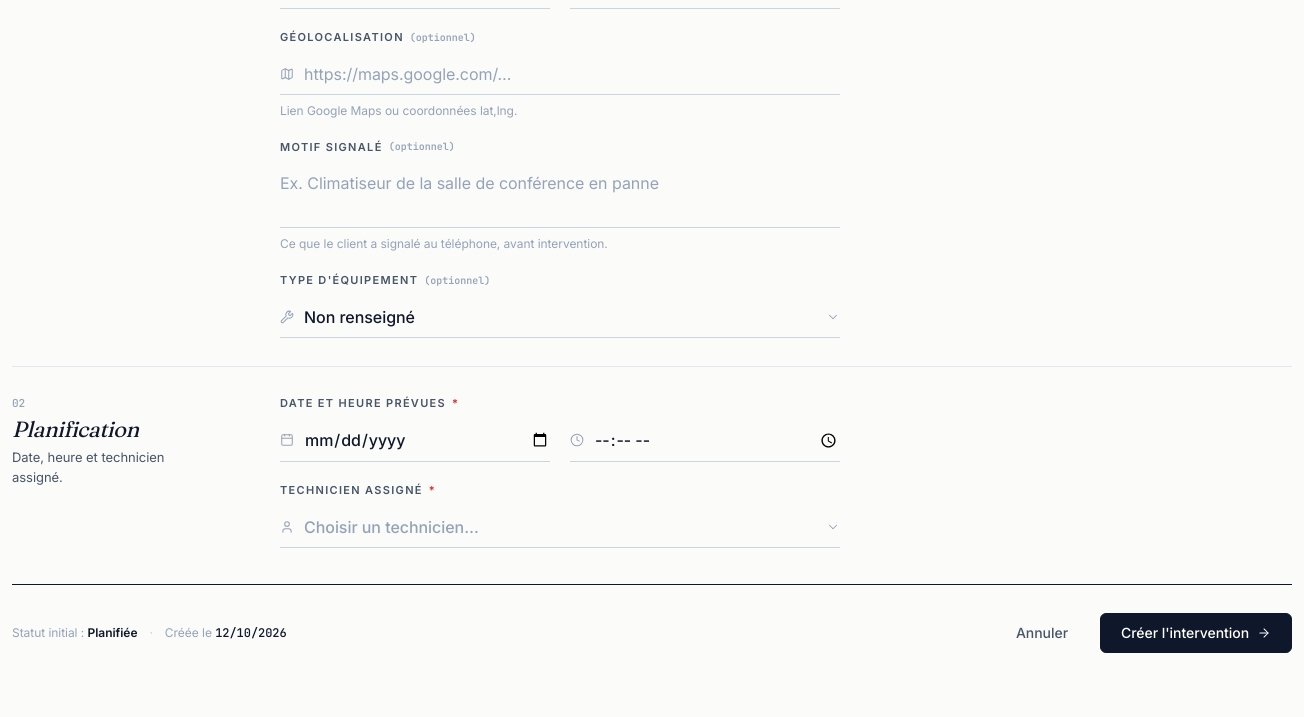
it: InterventionForm (creation) › filtre les techniciens via la barre de recherche du selecteur
The image size is (1304, 717).
(page scrolled)
Click the dropdown named "Technicien assigné". click: (391, 527)
box: [280,507,840,548]
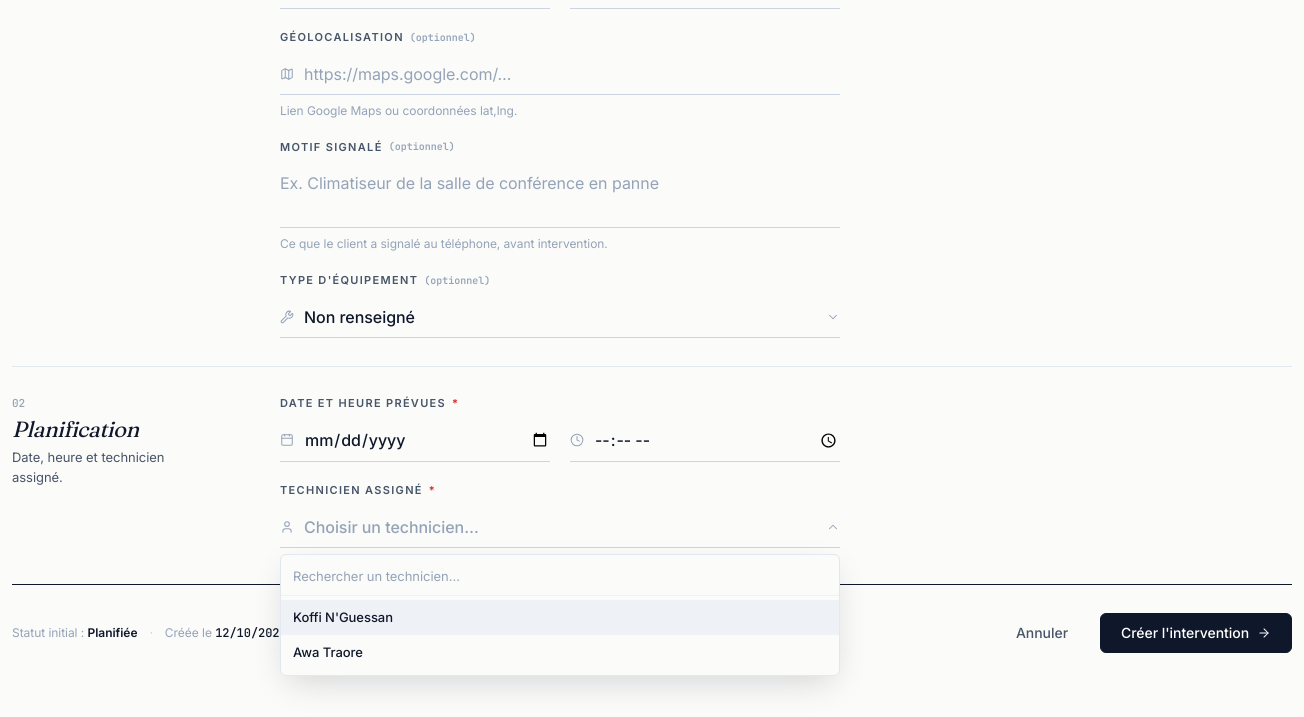
Result: the option "Awa Traore" is shown at [293,644,363,660]
Press Escape in the dropdown named "Technicien assigné", box [280,507,840,548]
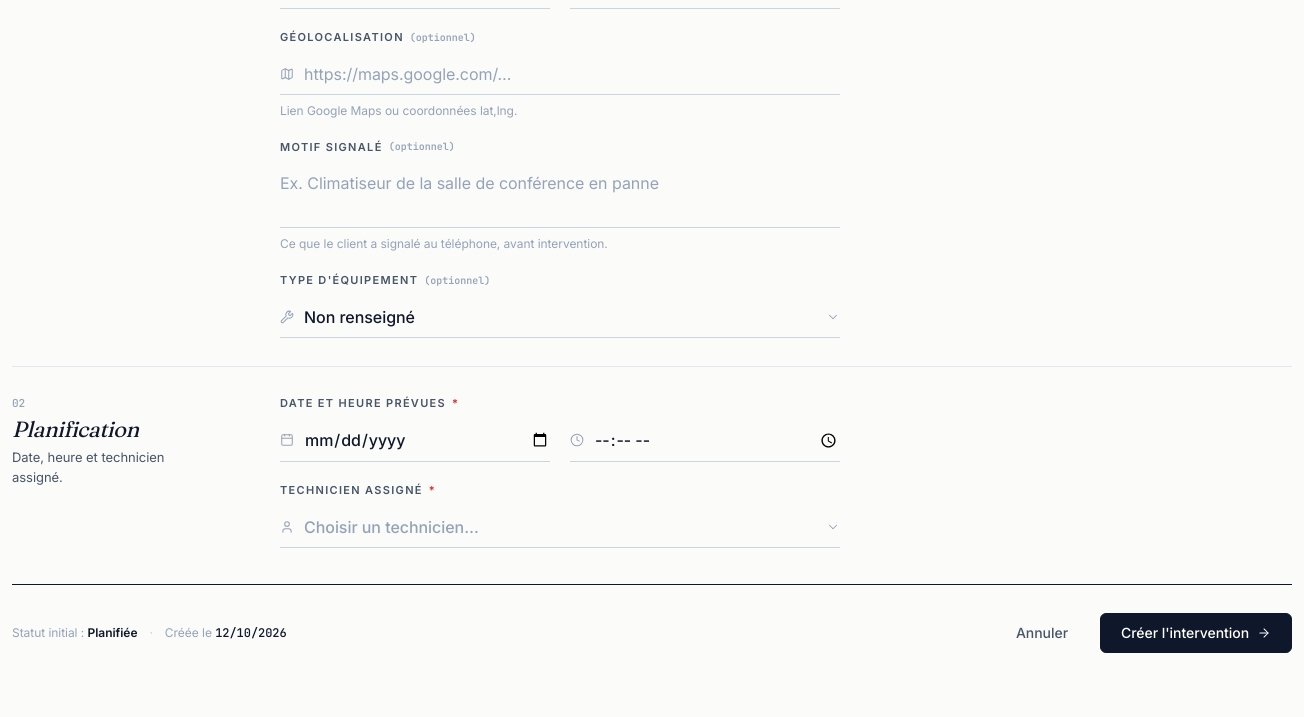
Click the dropdown named "Technicien assigné". click: (391, 527)
box: [280,507,840,548]
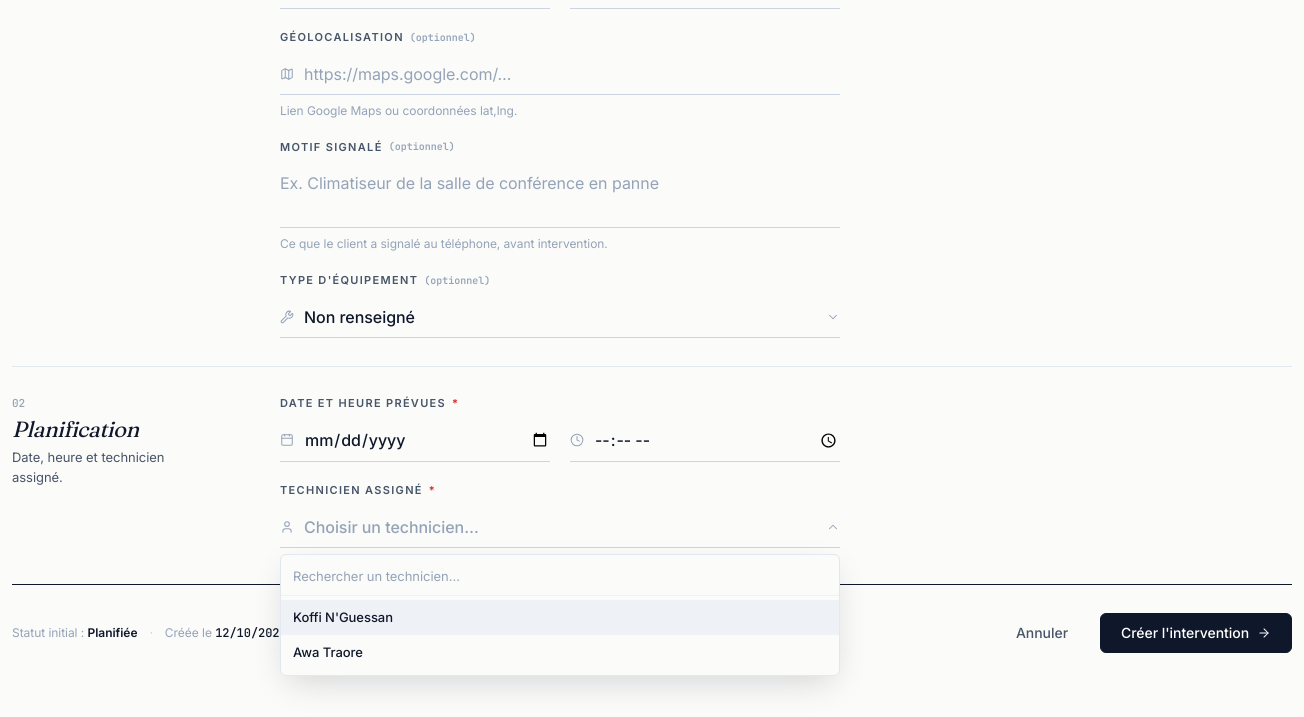
Result: the option "Awa Traore" is shown at [293,644,363,660]
Result: the option "Koffi N'Guessan" is shown at [281,600,839,635]
Type "awa" into the field labelled "Rechercher un technicien…". click: (560, 576)
box: [293,567,827,586]
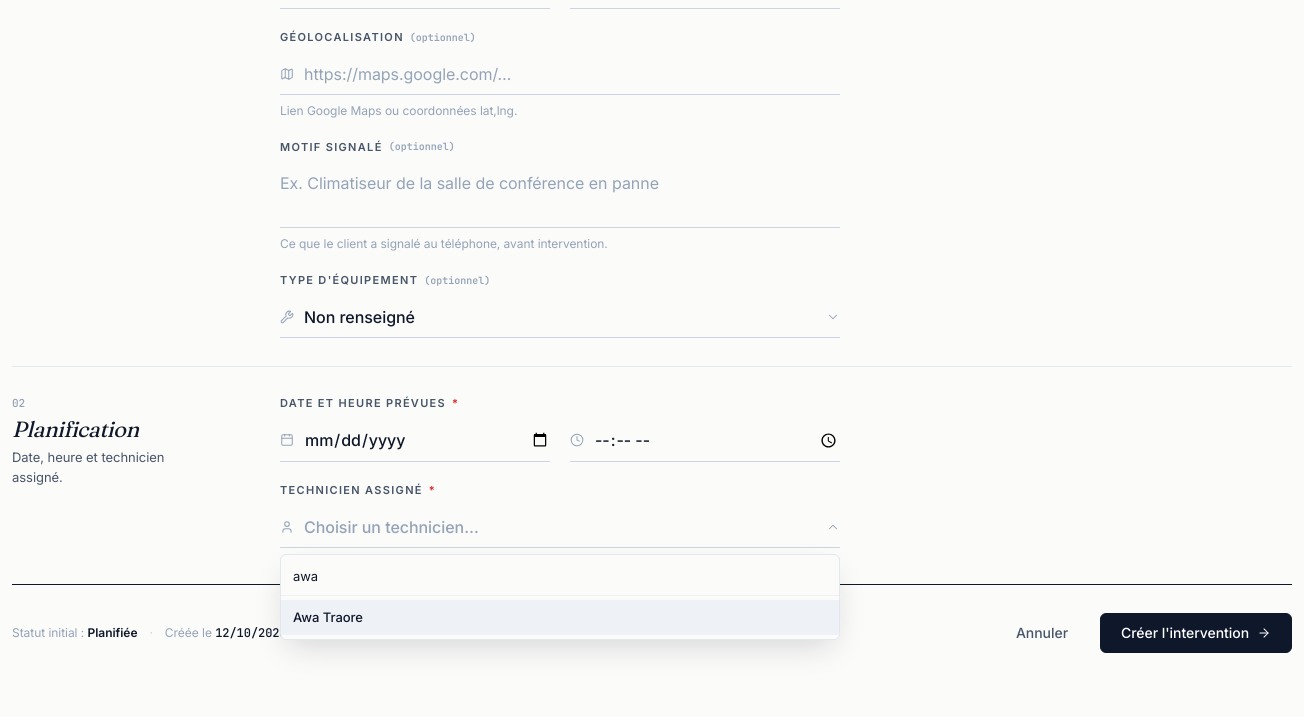
Result: the option "Awa Traore" is shown
Result: the option "Koffi N'Guessan" is gone
Click the option "Awa Traore". click: (328, 617)
box: [281,600,839,635]
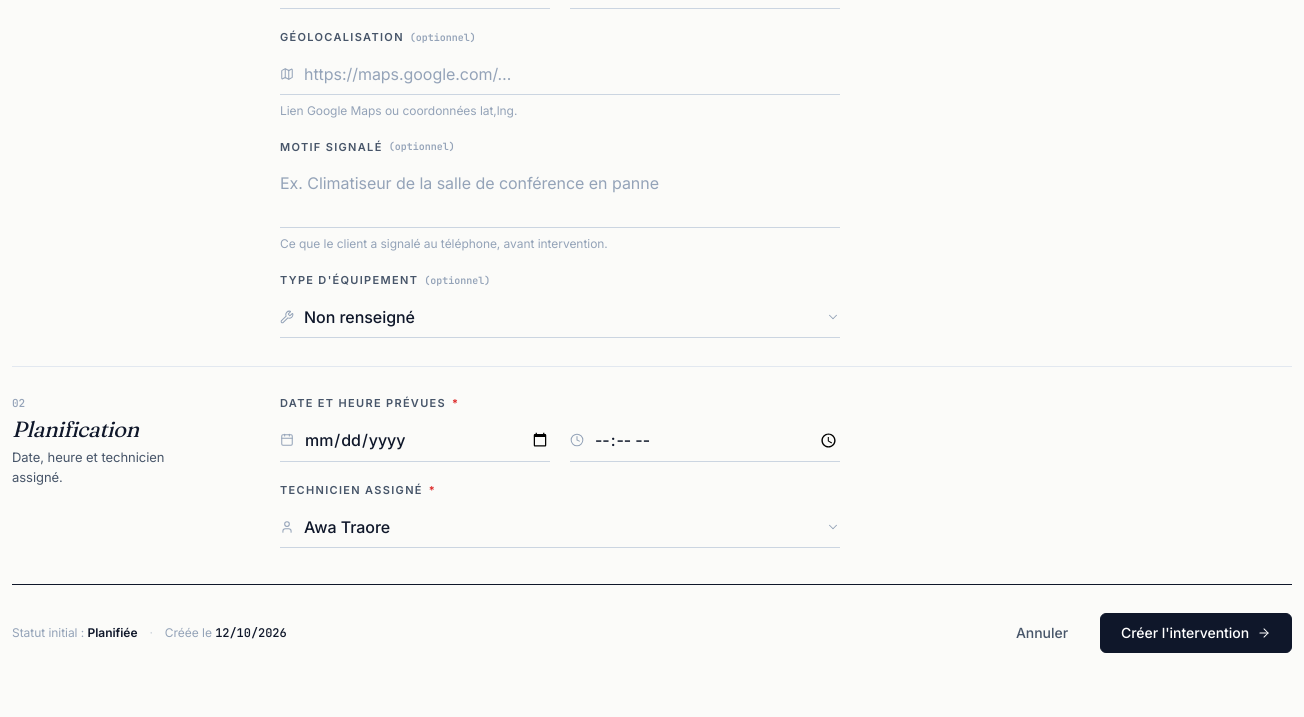
Result: the dropdown named "Technicien assigné" reads "Awa Traore" at [280,507,840,548]
